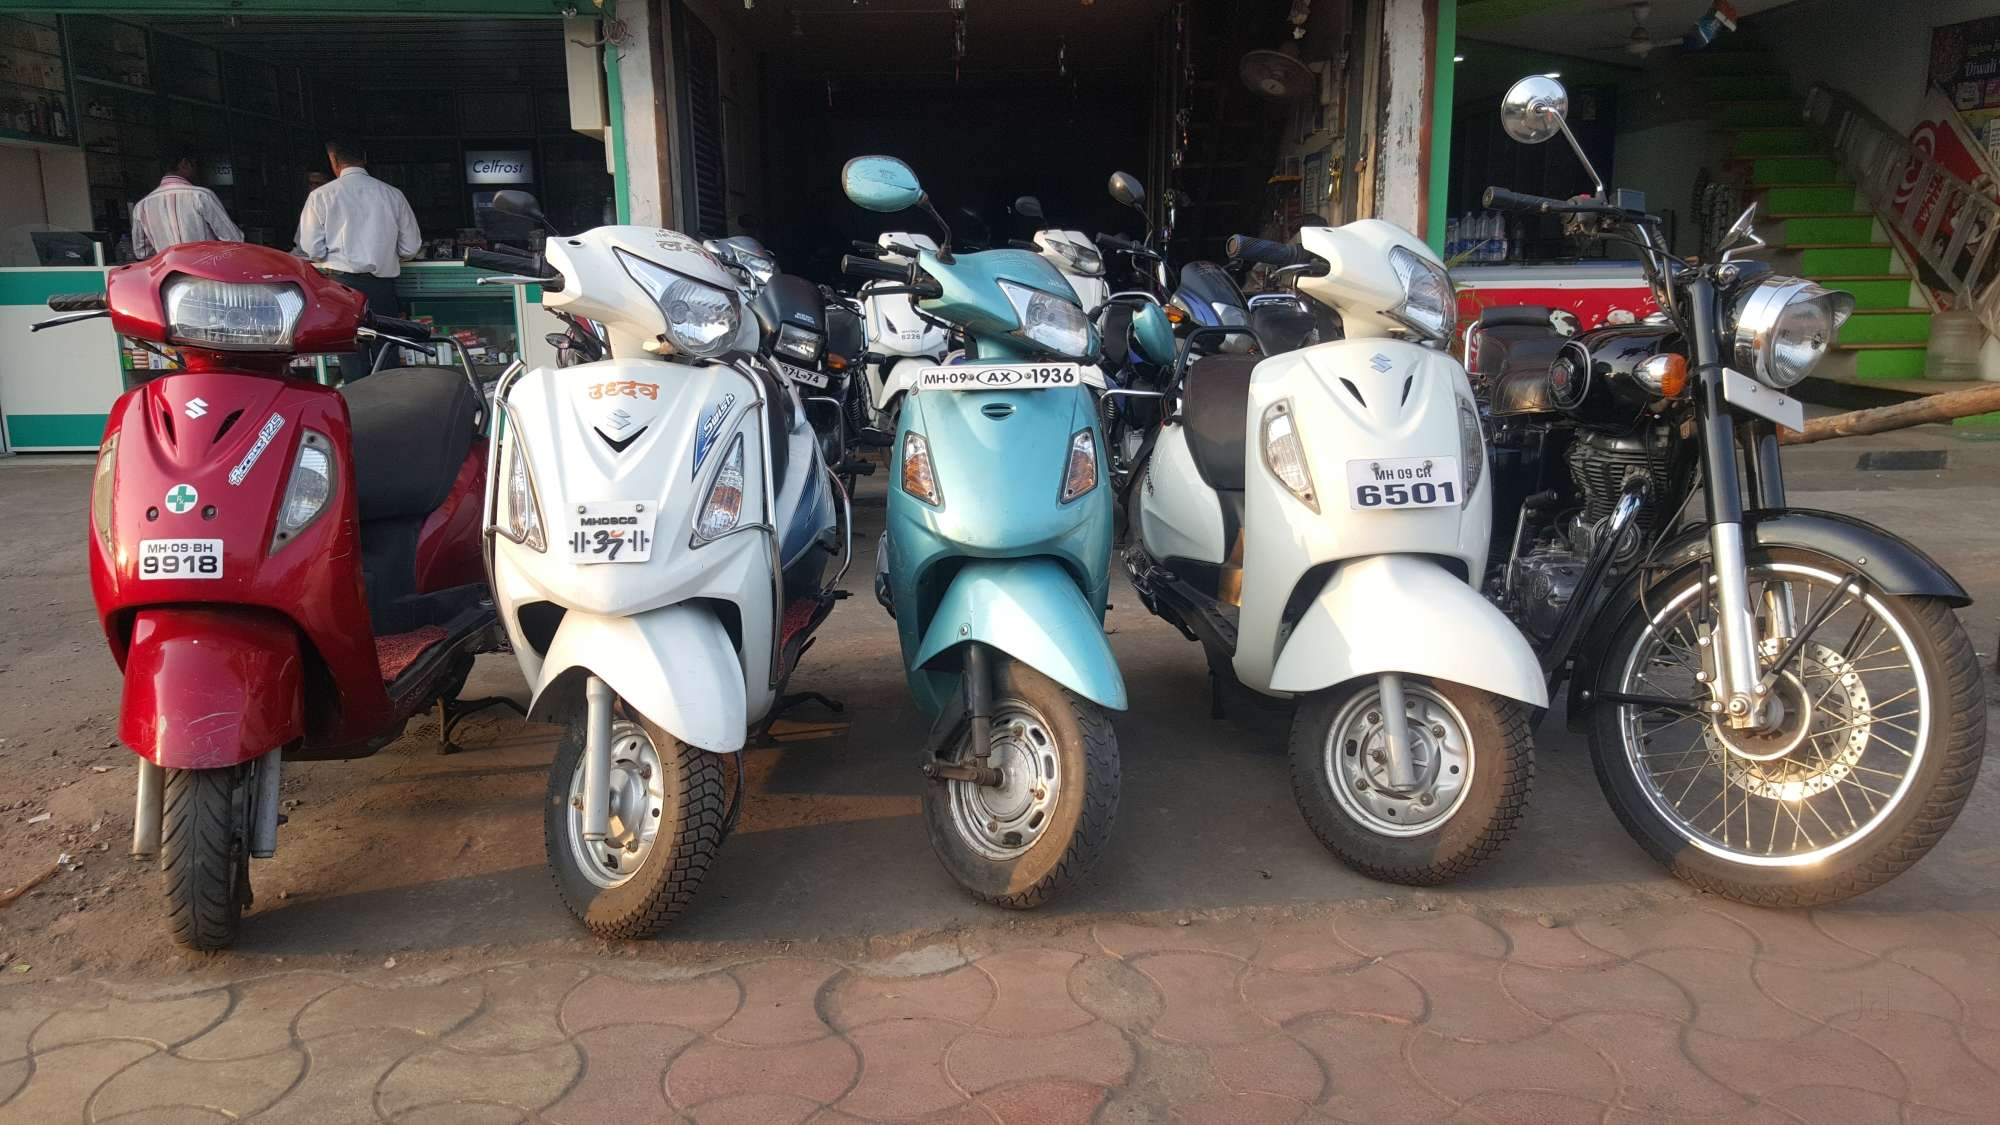Bike: (1559, 205, 1988, 923), (479, 249, 865, 953), (1151, 240, 1554, 896), (96, 255, 474, 949), (880, 235, 1143, 955)
